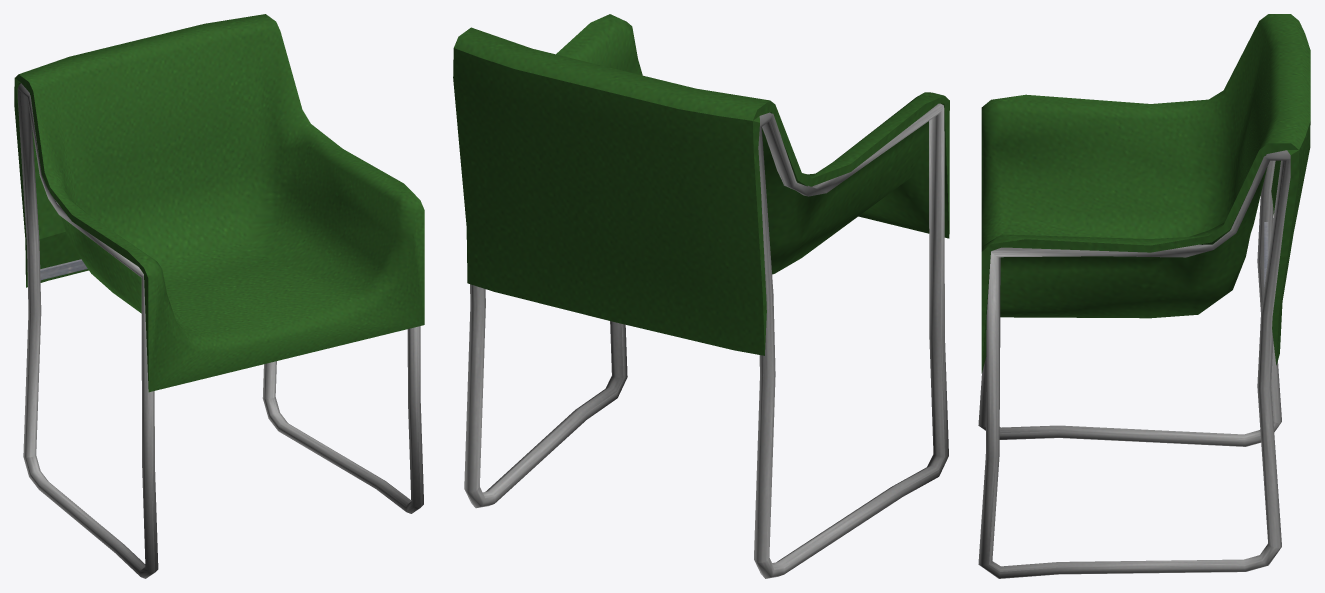
File: chair-10.FBX
The picture shows the model from 3 angles, left to right: view 1: azimuth 30°, elevation 25°; view 2: azimuth 150°, elevation 25°; view 3: azimuth 270°, elevation 25°; orthographic projection. The views are drawn at different scales.
Visible parts, largest first — view 1: chair-10_LOD0; view 2: chair-10_LOD0; view 3: chair-10_LOD0.
Part boxes in pixels (bbox=[...]): chair-10_LOD0: bbox=[14, 14, 424, 578]; chair-10_LOD0: bbox=[453, 14, 949, 578]; chair-10_LOD0: bbox=[978, 14, 1310, 578].
Size of what is drawn, in the model's own units: 22.62 by 31.47 by 21.98.
